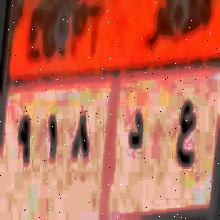1: (42, 110, 62, 172)
8: (71, 107, 92, 174)
9: (13, 108, 37, 186)
ain: (175, 98, 198, 189)
daal: (124, 102, 147, 165)
